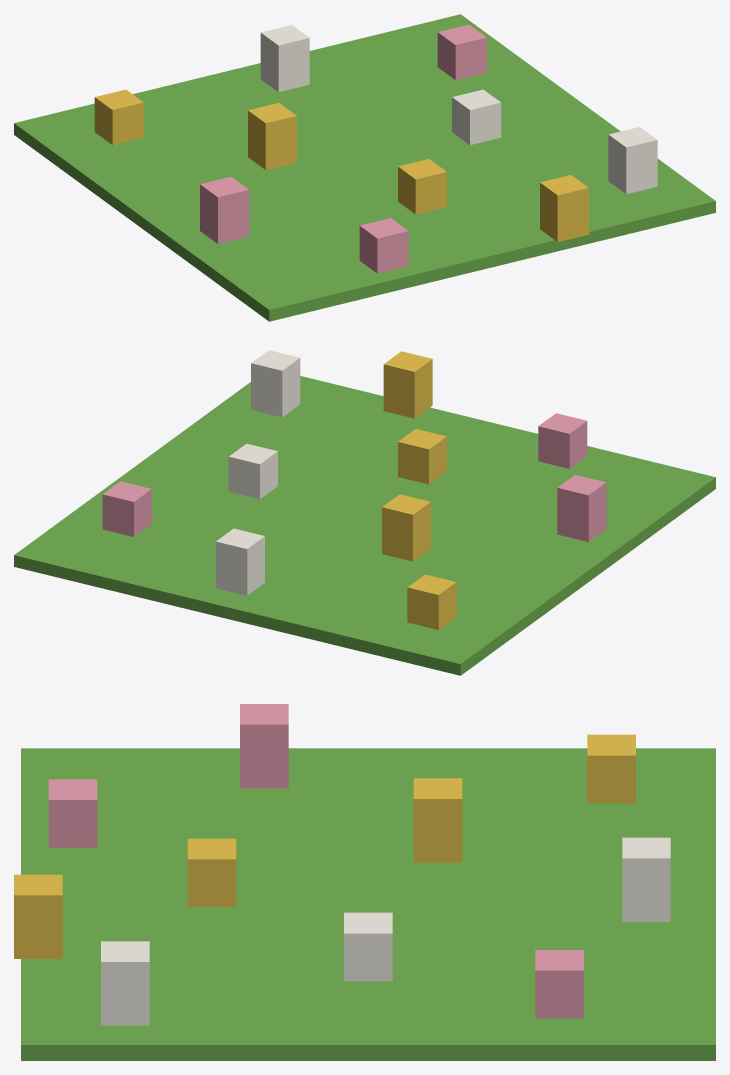
Rendered from env_r1_flower_patch.glb.
3 views of the same model, one above another, from view 1: azimuth 30°, elevation 25°; view 2: azimuth 150°, elevation 25°; view 3: azimuth 270°, elevation 25° (orthographic). The views are drawn at different scales.
Visible parts, largest first — view 1: env_r1_flower_patch; view 2: env_r1_flower_patch; view 3: env_r1_flower_patch.
Boxes of the visible parts, box(x1,y1,x2,y2) form: env_r1_flower_patch: box(14, 14, 715, 321); env_r1_flower_patch: box(14, 350, 715, 675); env_r1_flower_patch: box(14, 704, 715, 1060).
Bounding box in the file's own units: 2 × 0.25 × 2.
1 material, 1 textured.
